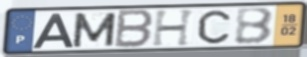A: (30, 12, 75, 50)
B: (112, 9, 156, 50), (234, 6, 276, 46)
C: (196, 8, 233, 45)
H: (151, 8, 198, 48)
M: (71, 11, 119, 49)
